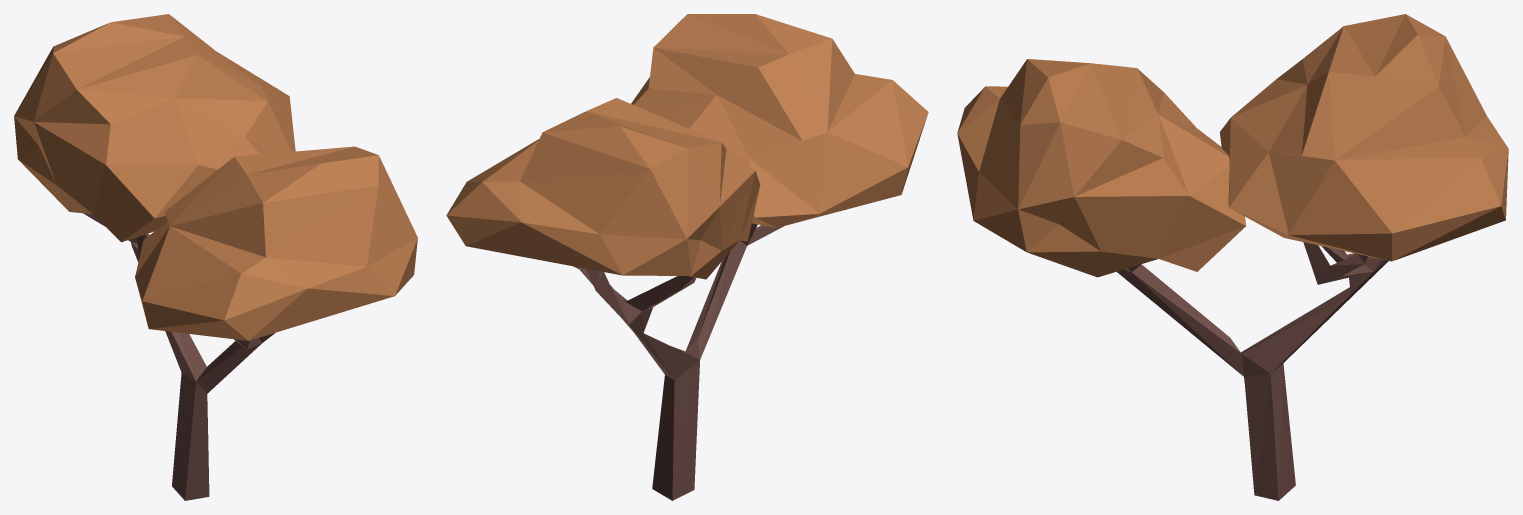
File: CommonTree_Autumn_1.lod3.glb
3 views of the same model, side by side, from view 1: azimuth 30°, elevation 25°; view 2: azimuth 150°, elevation 25°; view 3: azimuth 270°, elevation 25° (orthographic). The views are drawn at different scales.
Visible parts, largest first — view 1: CommonTree_Autumn_1; view 2: CommonTree_Autumn_1; view 3: CommonTree_Autumn_1.
Boxes of the visible parts, x1=… form: CommonTree_Autumn_1: x1=14, y1=14, x2=417, y2=500; CommonTree_Autumn_1: x1=446, y1=14, x2=928, y2=500; CommonTree_Autumn_1: x1=957, y1=14, x2=1508, y2=500.
Bounding box in the file's own units: 1.81 × 2.46 × 2.74.
